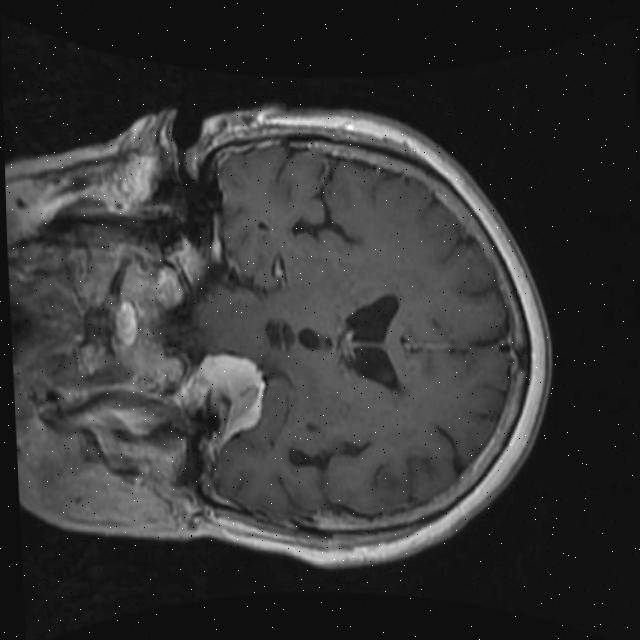Meningioma: (168, 348, 269, 453)
